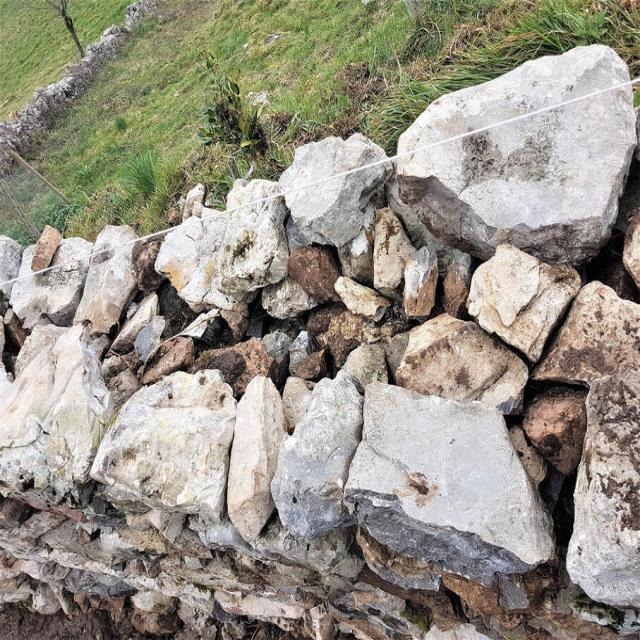grass: (28, 0, 639, 238), (68, 0, 138, 47)
rocks: (0, 45, 639, 639)
stone: (396, 45, 635, 263), (344, 382, 553, 579), (90, 370, 236, 520), (0, 325, 114, 498), (567, 366, 639, 608), (155, 179, 289, 309), (271, 371, 363, 539), (394, 313, 528, 414), (466, 245, 580, 362), (279, 134, 392, 248), (532, 281, 639, 385), (228, 376, 286, 539), (10, 226, 92, 329), (73, 226, 138, 334), (373, 207, 415, 294), (403, 247, 437, 316), (342, 344, 388, 390)
